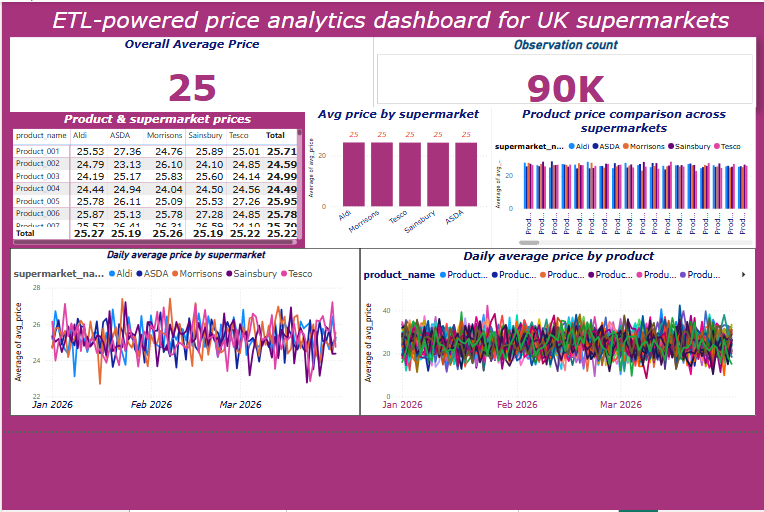

The dashboard page shown, as its layout file describes it:
{"tool":"powerbi","page":{"name":"Dashboard","canvas":[1280,720],"ordinal":2},"visuals":[{"type":"cardVisual","title":"Observation count","fields":{"Data":["CountNonNull(agg_daily_prices.obs_count)"]},"box":[624.9,58.8,641.7,126],"z":0},{"type":"cardVisual","title":"Overall Average Price","fields":{"Data":["Avg(agg_daily_prices.avg_price)"]},"box":[13.4,58.8,611.4,126],"z":1000},{"type":"lineChart","title":"Daily average price by supermarket","fields":{"Category":["agg_daily_prices.date_id"],"Y":["Avg(agg_daily_prices.avg_price)"],"Series":["agg_daily_prices.supermarket_name"]},"box":[13.4,413.2,587.9,282.2],"z":2000},{"type":"lineChart","title":"Daily average price by product","fields":{"Category":["agg_daily_prices.date_id"],"Y":["Avg(agg_daily_prices.avg_price)"],"Series":["agg_daily_prices.product_name"]},"box":[601.4,413.2,665.2,282.2],"z":3000},{"type":"clusteredColumnChart","title":"Product price comparison across supermarkets","fields":{"Category":["agg_daily_prices.product_name"],"Y":["Avg(agg_daily_prices.avg_price)"],"Series":["agg_daily_prices.supermarket_name"]},"box":[823.1,184.8,443.5,228.5],"z":4000},{"type":"pivotTable","title":"Product & supermarket prices","fields":{"Rows":["agg_daily_prices.product_name"],"Columns":["agg_daily_prices.supermarket_name"],"Values":["Avg(agg_daily_prices.avg_price)"]},"box":[13.4,184.8,495.5,228.5],"z":5000},{"type":"clusteredColumnChart","title":"Avg price by supermarket","fields":{"Category":["agg_daily_prices.supermarket_name"],"Y":["Avg(agg_daily_prices.avg_price)"]},"box":[509,176.4,314.1,236.9],"z":6000},{"type":"textbox","box":[13.4,0,1253.1,58.8],"z":7000}]}

Visuals, with their boxes on the page's 1280x720 design canvas (x1, y1, x2, y2). These are canvas units, not pixel positions in the 764x512 screenshot, which may show the page scaled, cropped or inside an application window:
"Observation count" cardVisual: (625, 59, 1267, 185)
"Overall Average Price" cardVisual: (13, 59, 625, 185)
"Daily average price by supermarket" lineChart: (13, 413, 601, 695)
"Daily average price by product" lineChart: (601, 413, 1267, 695)
"Product price comparison across supermarkets" clusteredColumnChart: (823, 185, 1267, 413)
"Product & supermarket prices" pivotTable: (13, 185, 509, 413)
"Avg price by supermarket" clusteredColumnChart: (509, 176, 823, 413)
textbox: (13, 0, 1266, 59)
